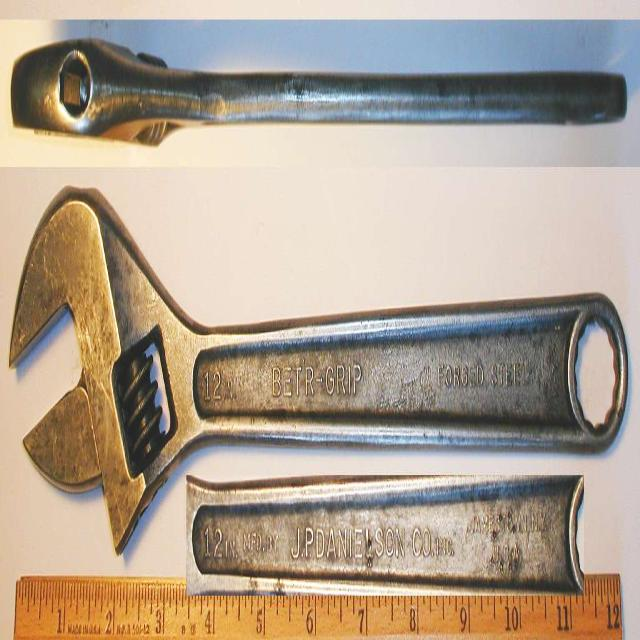wrench: (6, 164, 547, 548)
